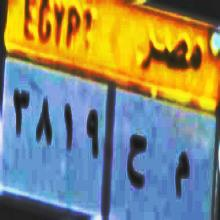1: (62, 99, 78, 158)
3: (8, 86, 31, 141)
7aa: (126, 132, 147, 193)
8: (34, 100, 55, 155)
9: (83, 110, 104, 165)
meem: (170, 138, 192, 214)
